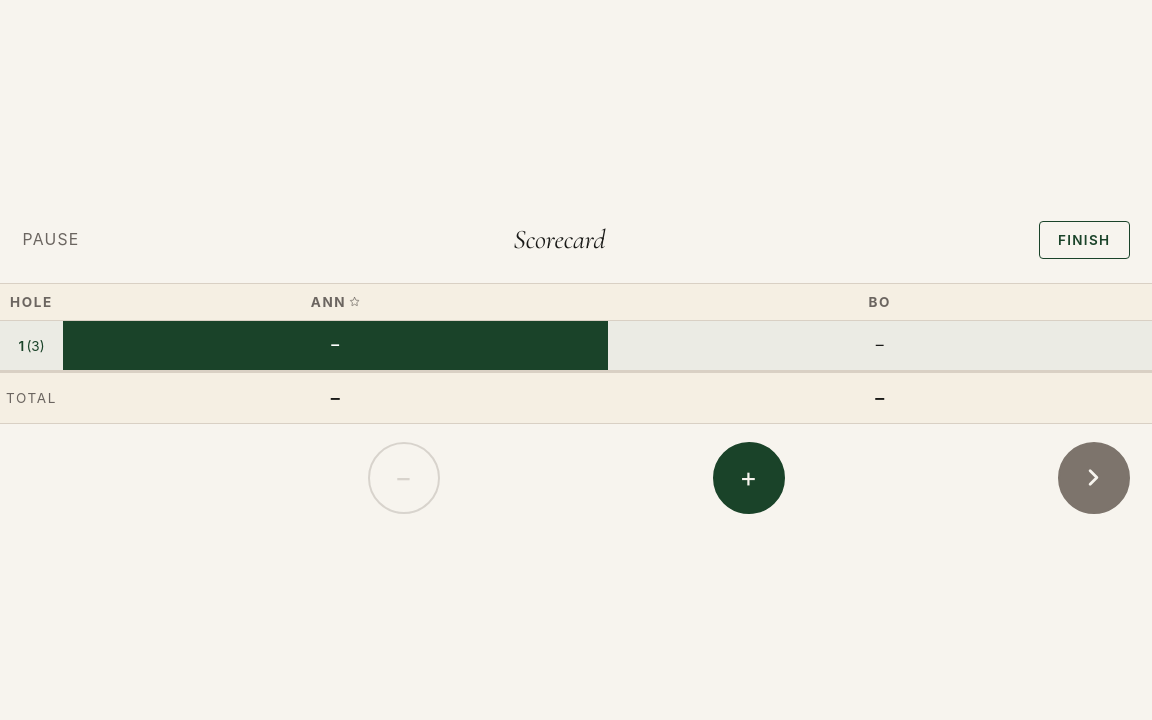
Test: Scorecard - signed-in star (#91) › carries the star onto the player's line in the finish-round confirm sheet
What coordinates should you click on to do the following:
click the button "Finish"
I would click on:
 (1084, 240)
Its box is [1039,221,1130,259].
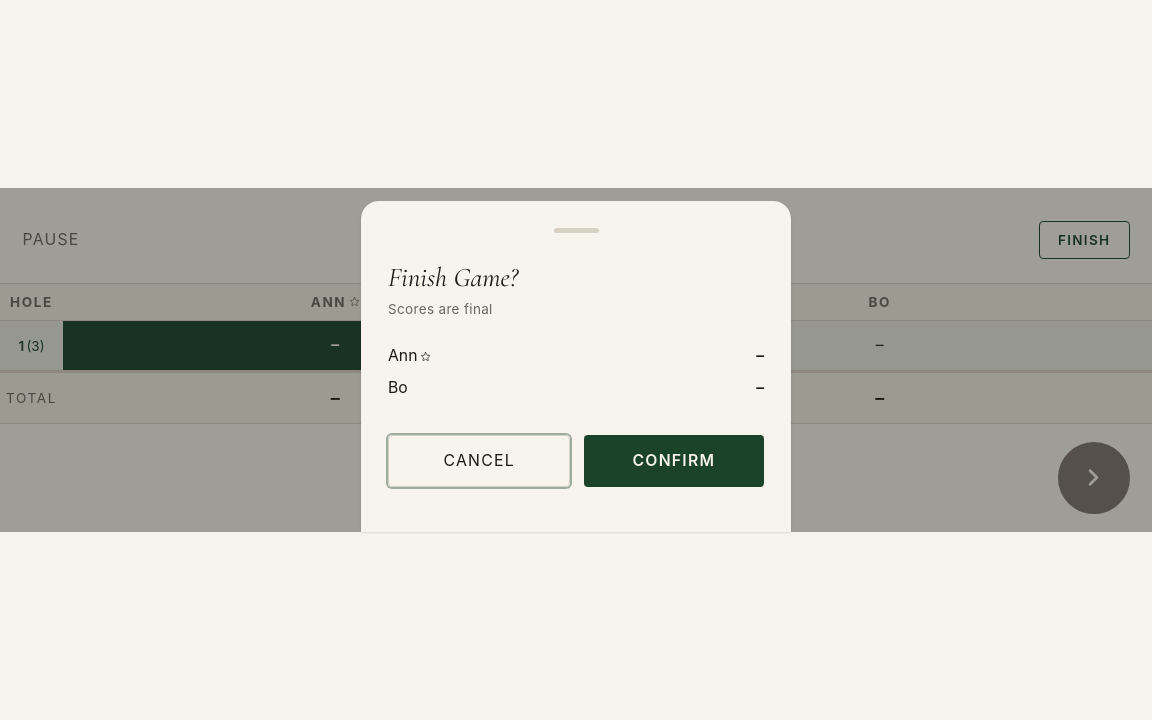
Now the number of pictures named "You" is 2, box [348,296,360,307]; [420,351,431,363]
Now the element showing "Ann" is shown, box [388,345,431,368]
